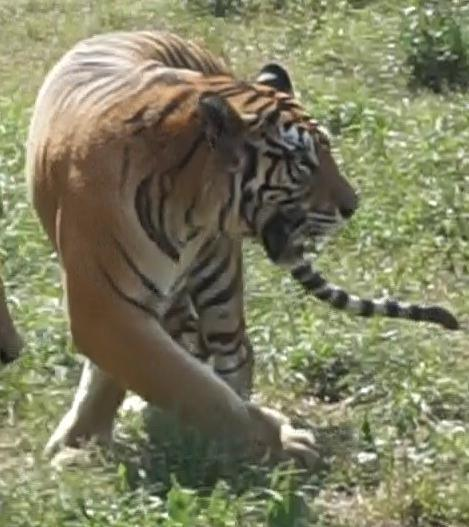tiger: (28, 32, 457, 454)
